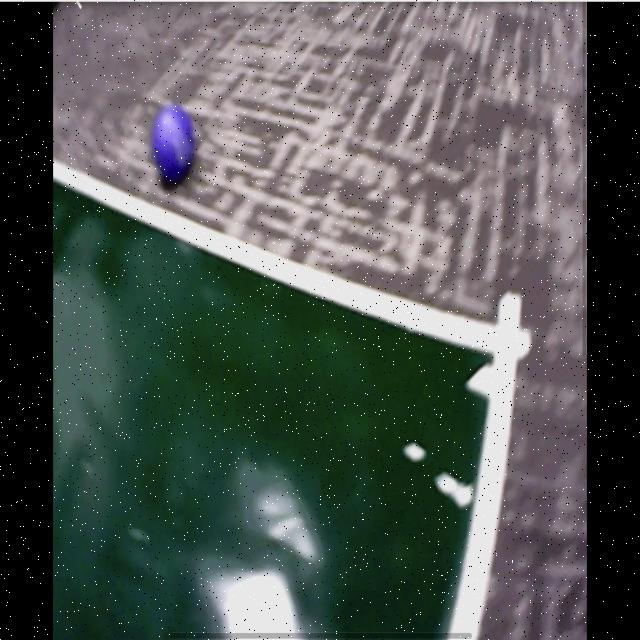ball: (151, 106, 195, 180)
